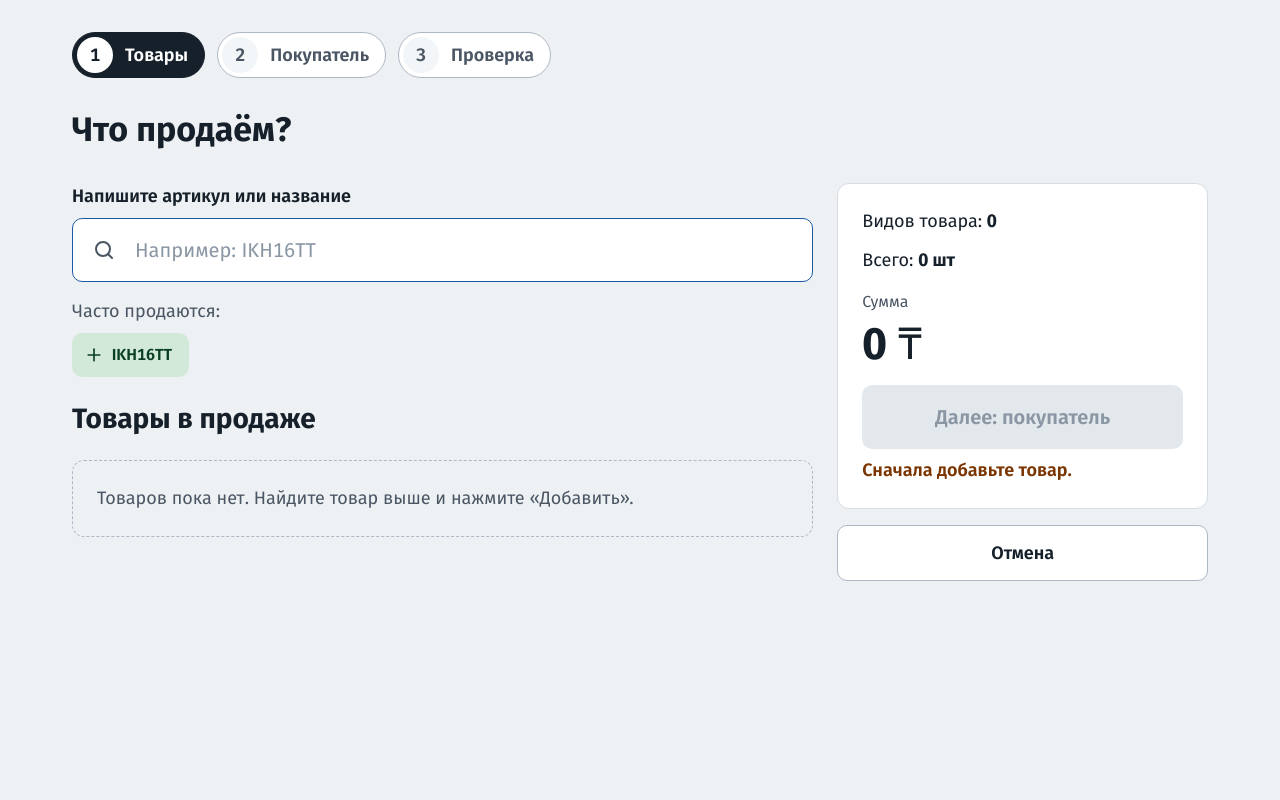
SellPage, step 1 › offers frequent products while the search is empty and says when nothing is found
The width and height of the screenshot is (1280, 800).
Check: the text "Часто продаются:" is shown, box [72,300,220,322]
Step 1. Click the button with aria-label "Добавить IKH16TT" → (130,355), box [72,333,189,377]
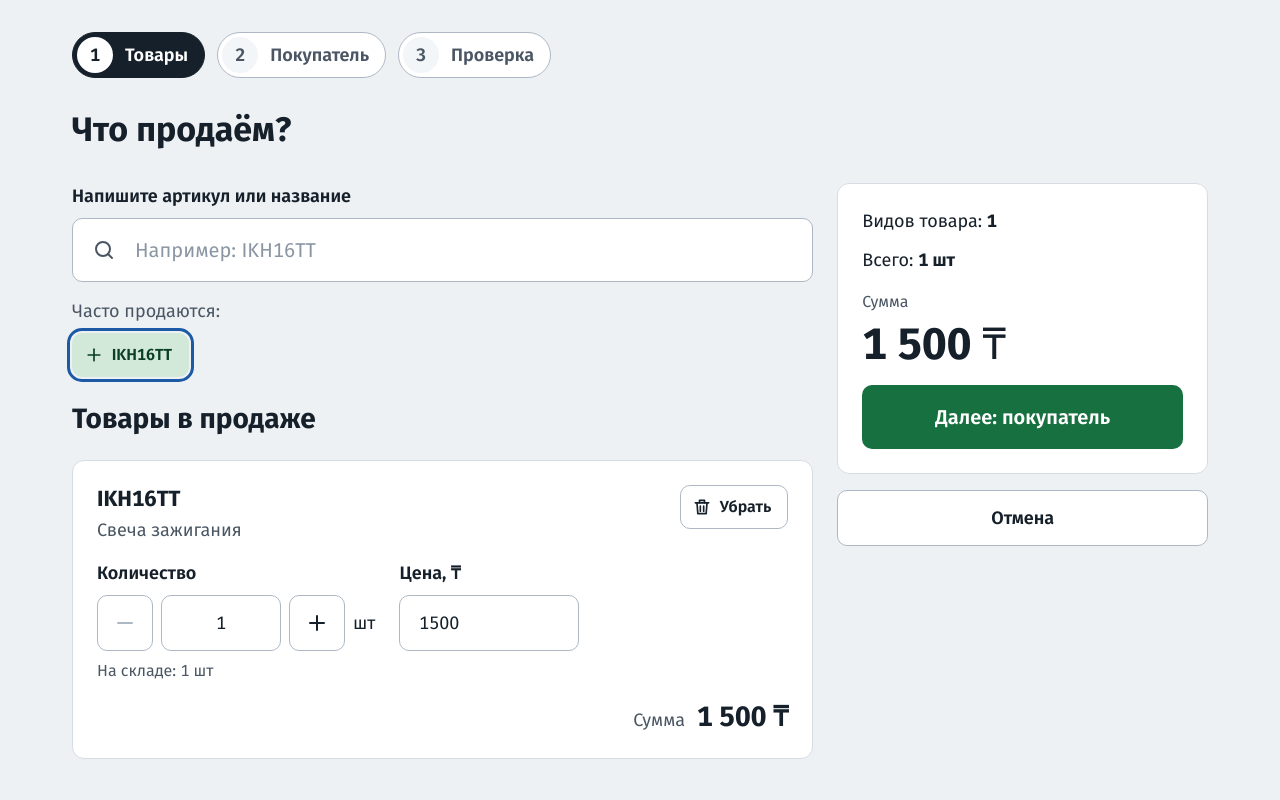
Check: the field named "Количество IKH16TT" holds "1", box [161,595,281,651]
Step 2. Click the search field → (443,250), box [72,218,813,282]
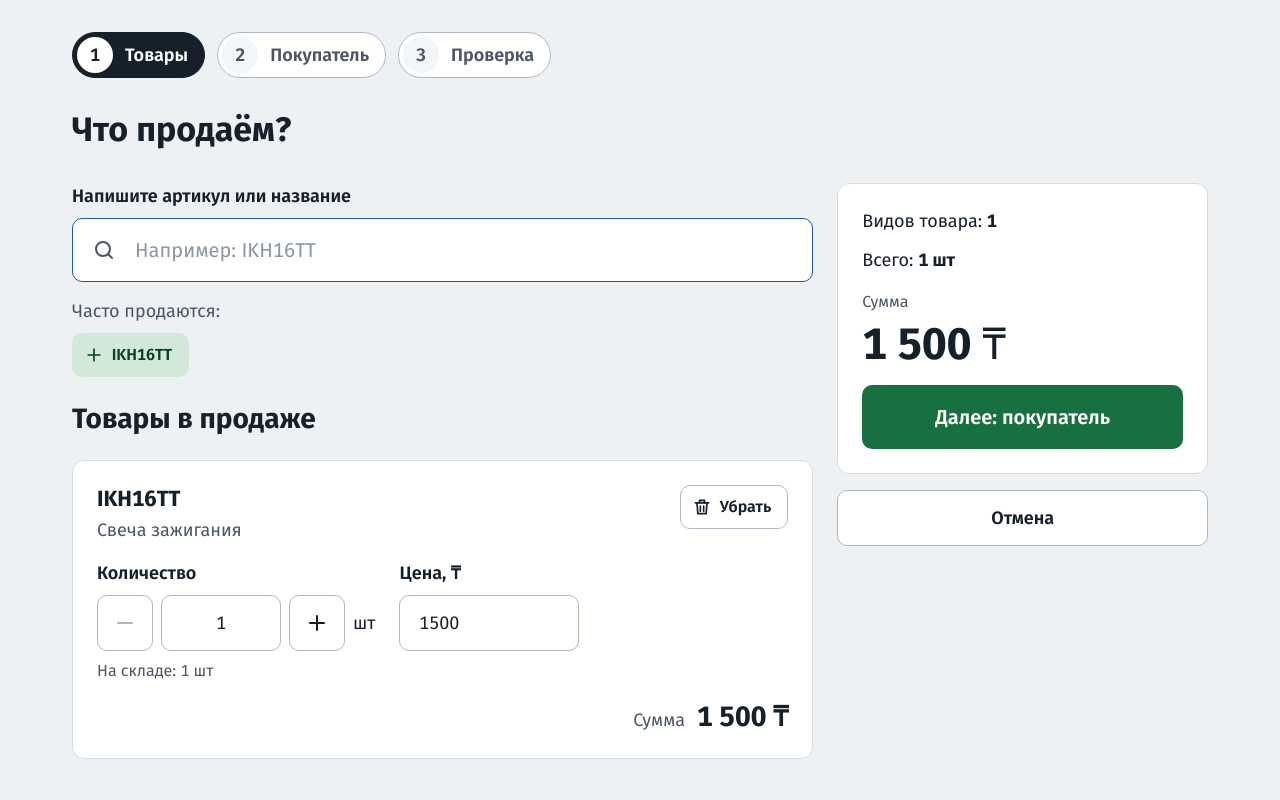
Step 3. Type keys "XYZ"
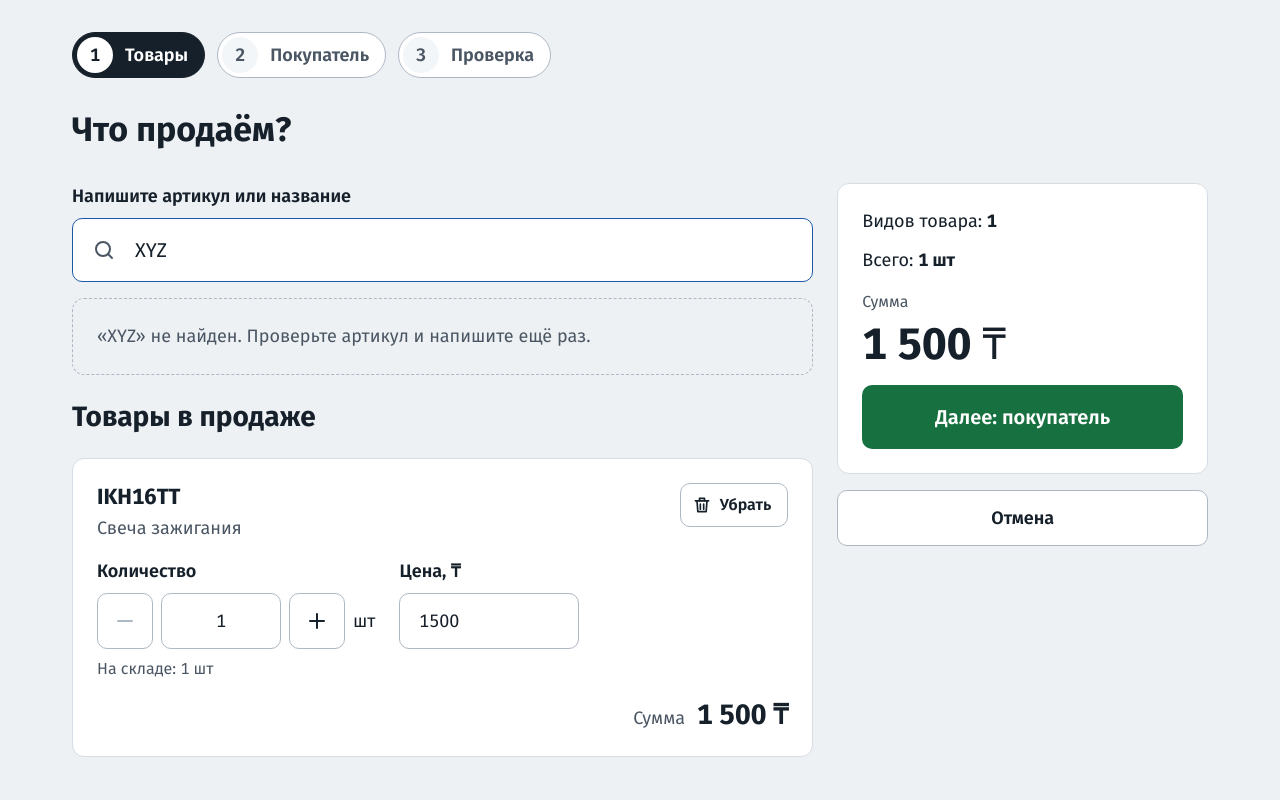
Check: the text "«XYZ» не найден. Проверьте артикул и напишите ещё раз." is shown, box [72,298,813,375]
